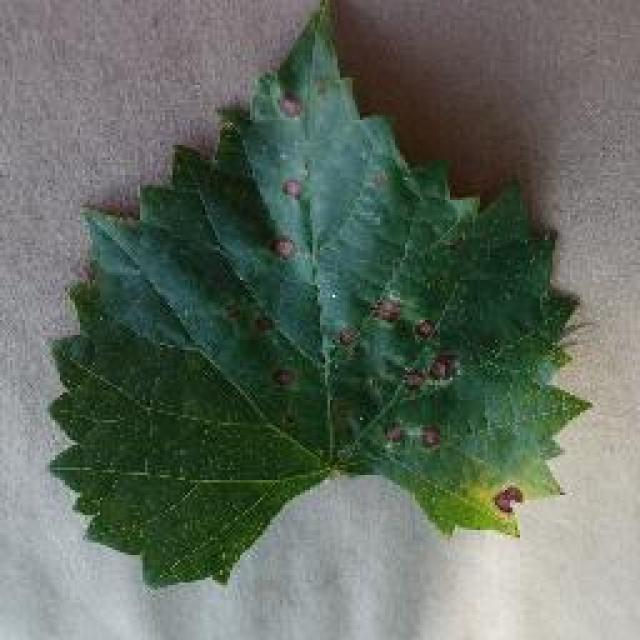Grape___Black_rot: (43, 0, 597, 595)
